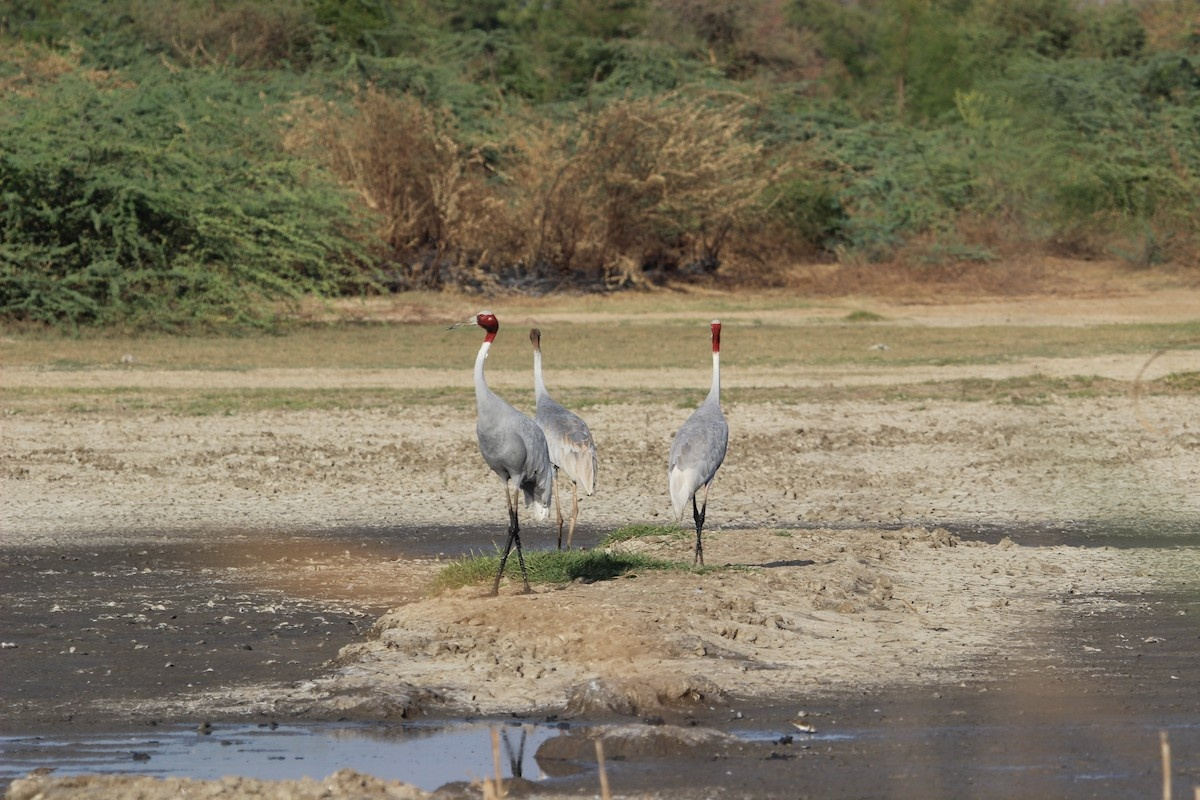crane: (441, 302, 558, 586), (660, 314, 731, 579), (525, 328, 598, 505)
